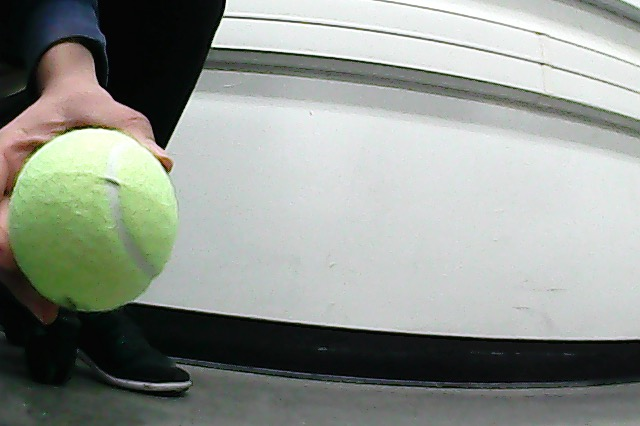ball: (10, 130, 179, 311)
